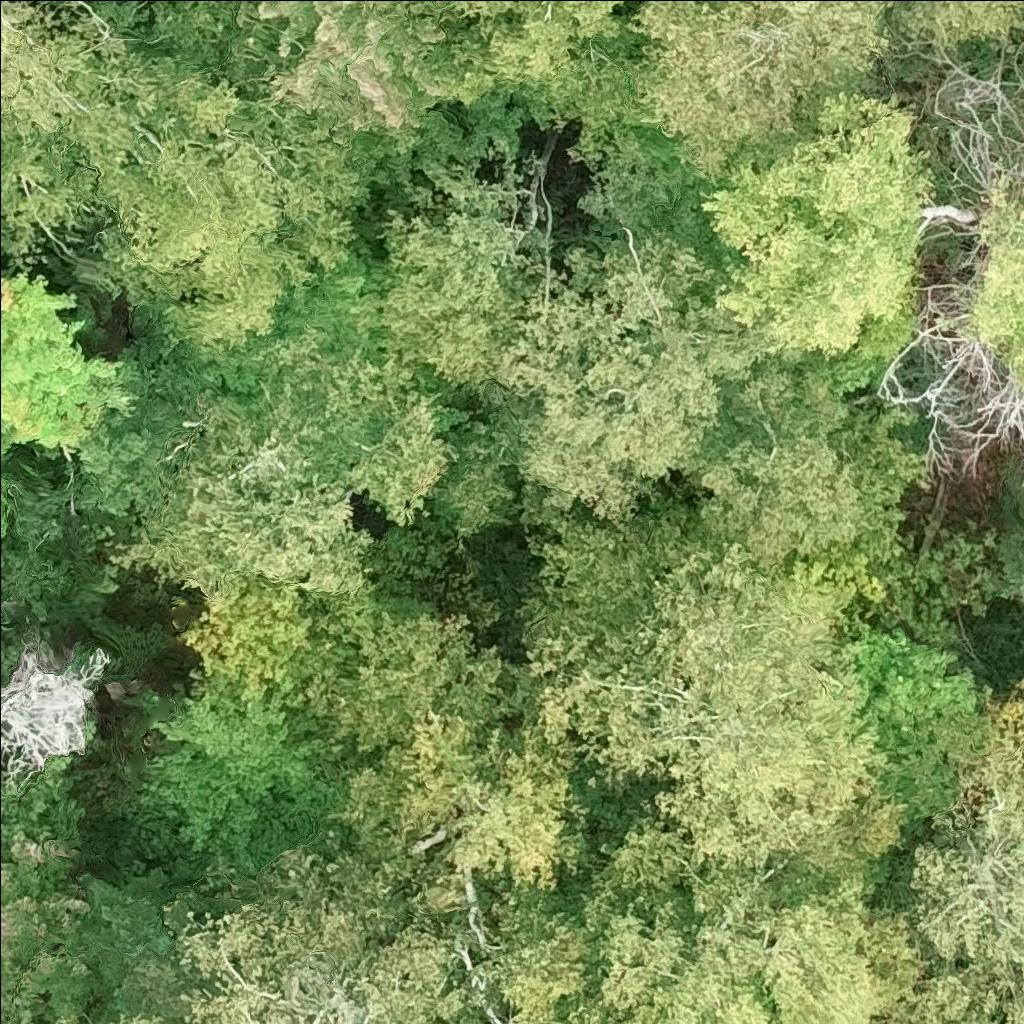crown: (515, 496, 885, 867), (106, 338, 458, 604), (88, 52, 390, 352), (554, 787, 925, 1023), (495, 239, 779, 536), (329, 611, 595, 916), (701, 73, 937, 391), (684, 348, 929, 629), (177, 850, 469, 1023), (629, 0, 899, 175), (375, 158, 559, 403), (0, 0, 175, 257), (141, 673, 349, 879), (876, 747, 1023, 1023), (202, 248, 404, 439), (237, 0, 464, 156), (178, 575, 384, 720), (855, 623, 994, 821), (879, 290, 1023, 479), (0, 752, 90, 1023), (0, 275, 133, 455), (438, 0, 627, 103), (456, 884, 589, 1023), (0, 642, 106, 785), (140, 0, 276, 89), (941, 704, 1023, 834), (975, 179, 1023, 391), (891, 0, 1023, 50), (1002, 531, 1023, 608), (0, 462, 8, 534), (105, 1013, 161, 1023), (357, 0, 432, 5)
